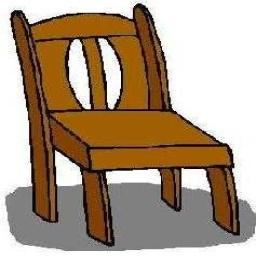Chair: (8, 2, 240, 242)
